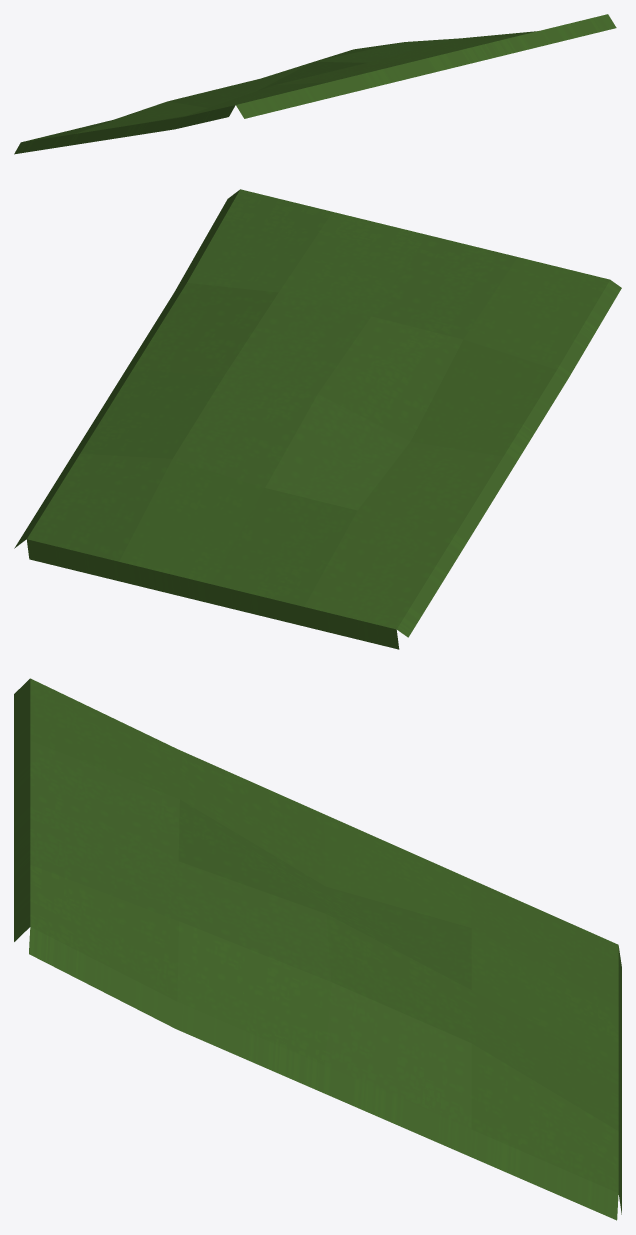
The model's file is rampnoise.gltf.
The picture shows the model from 3 angles, top to bottom: view 1: azimuth 30°, elevation 25°; view 2: azimuth 150°, elevation 25°; view 3: azimuth 270°, elevation 25°; orthographic projection. The views are drawn at different scales.
Visible parts, largest first — view 1: Plane; view 2: Plane; view 3: Plane.
Boxes of the visible parts, x1,y1,x2,y2 form: Plane: [14, 14, 616, 154]; Plane: [14, 189, 621, 649]; Plane: [14, 678, 621, 1220].
Size of the model in its own units: 63.64 by 32.84 by 62.01.
Materials: 1 (1 with a texture image).
